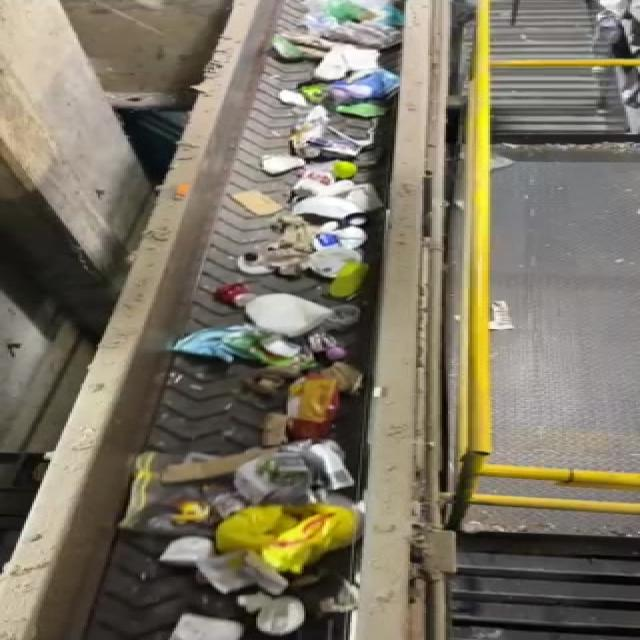paper: (128, 442, 358, 520)
pp: (200, 512, 357, 578), (282, 368, 352, 444), (258, 596, 318, 636)
